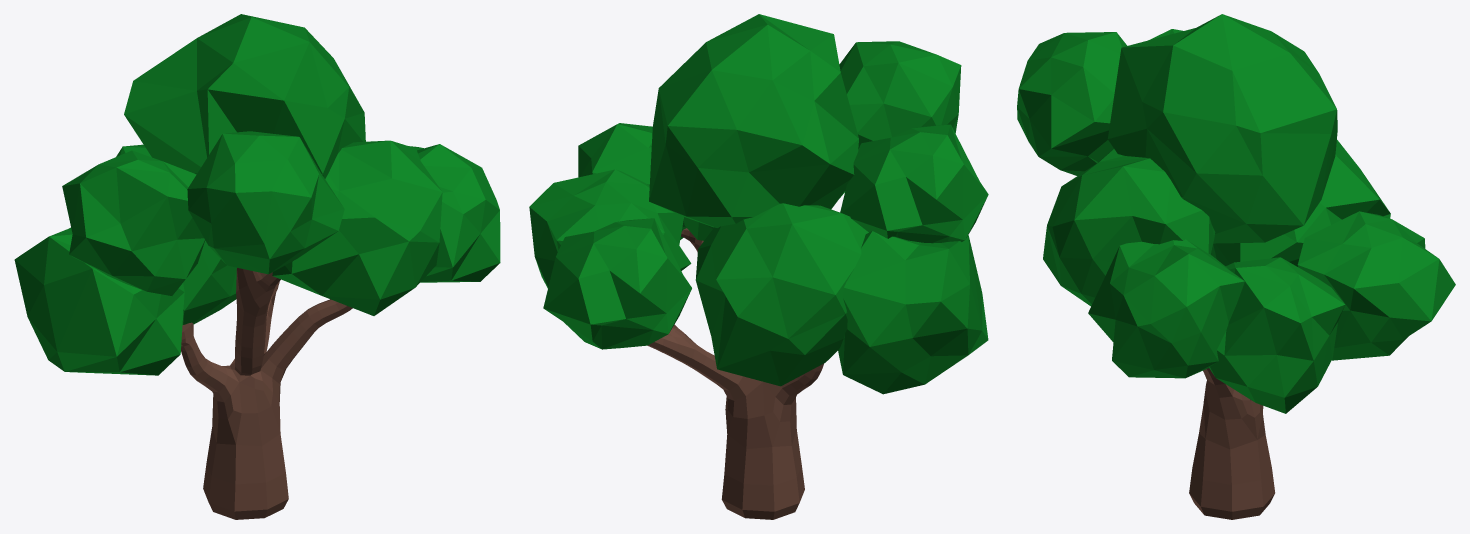
File: LeafyTree.glb
3 views of the same model, side by side, from view 1: azimuth 30°, elevation 25°; view 2: azimuth 150°, elevation 25°; view 3: azimuth 270°, elevation 25° (orthographic). The views are drawn at different scales.
Visible parts, largest first — view 1: Leaves, Tree; view 2: Leaves, Tree; view 3: Leaves, Tree.
Part boxes in pixels (box(x1,y1,x2,y2)): Leaves: box(14, 14, 500, 375); Tree: box(181, 267, 352, 519); Leaves: box(529, 14, 988, 394); Tree: box(647, 228, 823, 519); Leaves: box(1017, 14, 1455, 413); Tree: box(1189, 368, 1275, 519).
Bounding box in the file's own units: 12.55 × 13.69 × 11.08.
